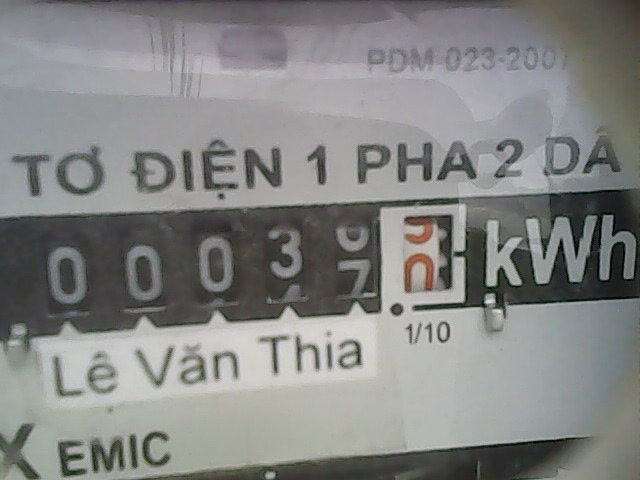phy_plate: (33, 196, 475, 335)
